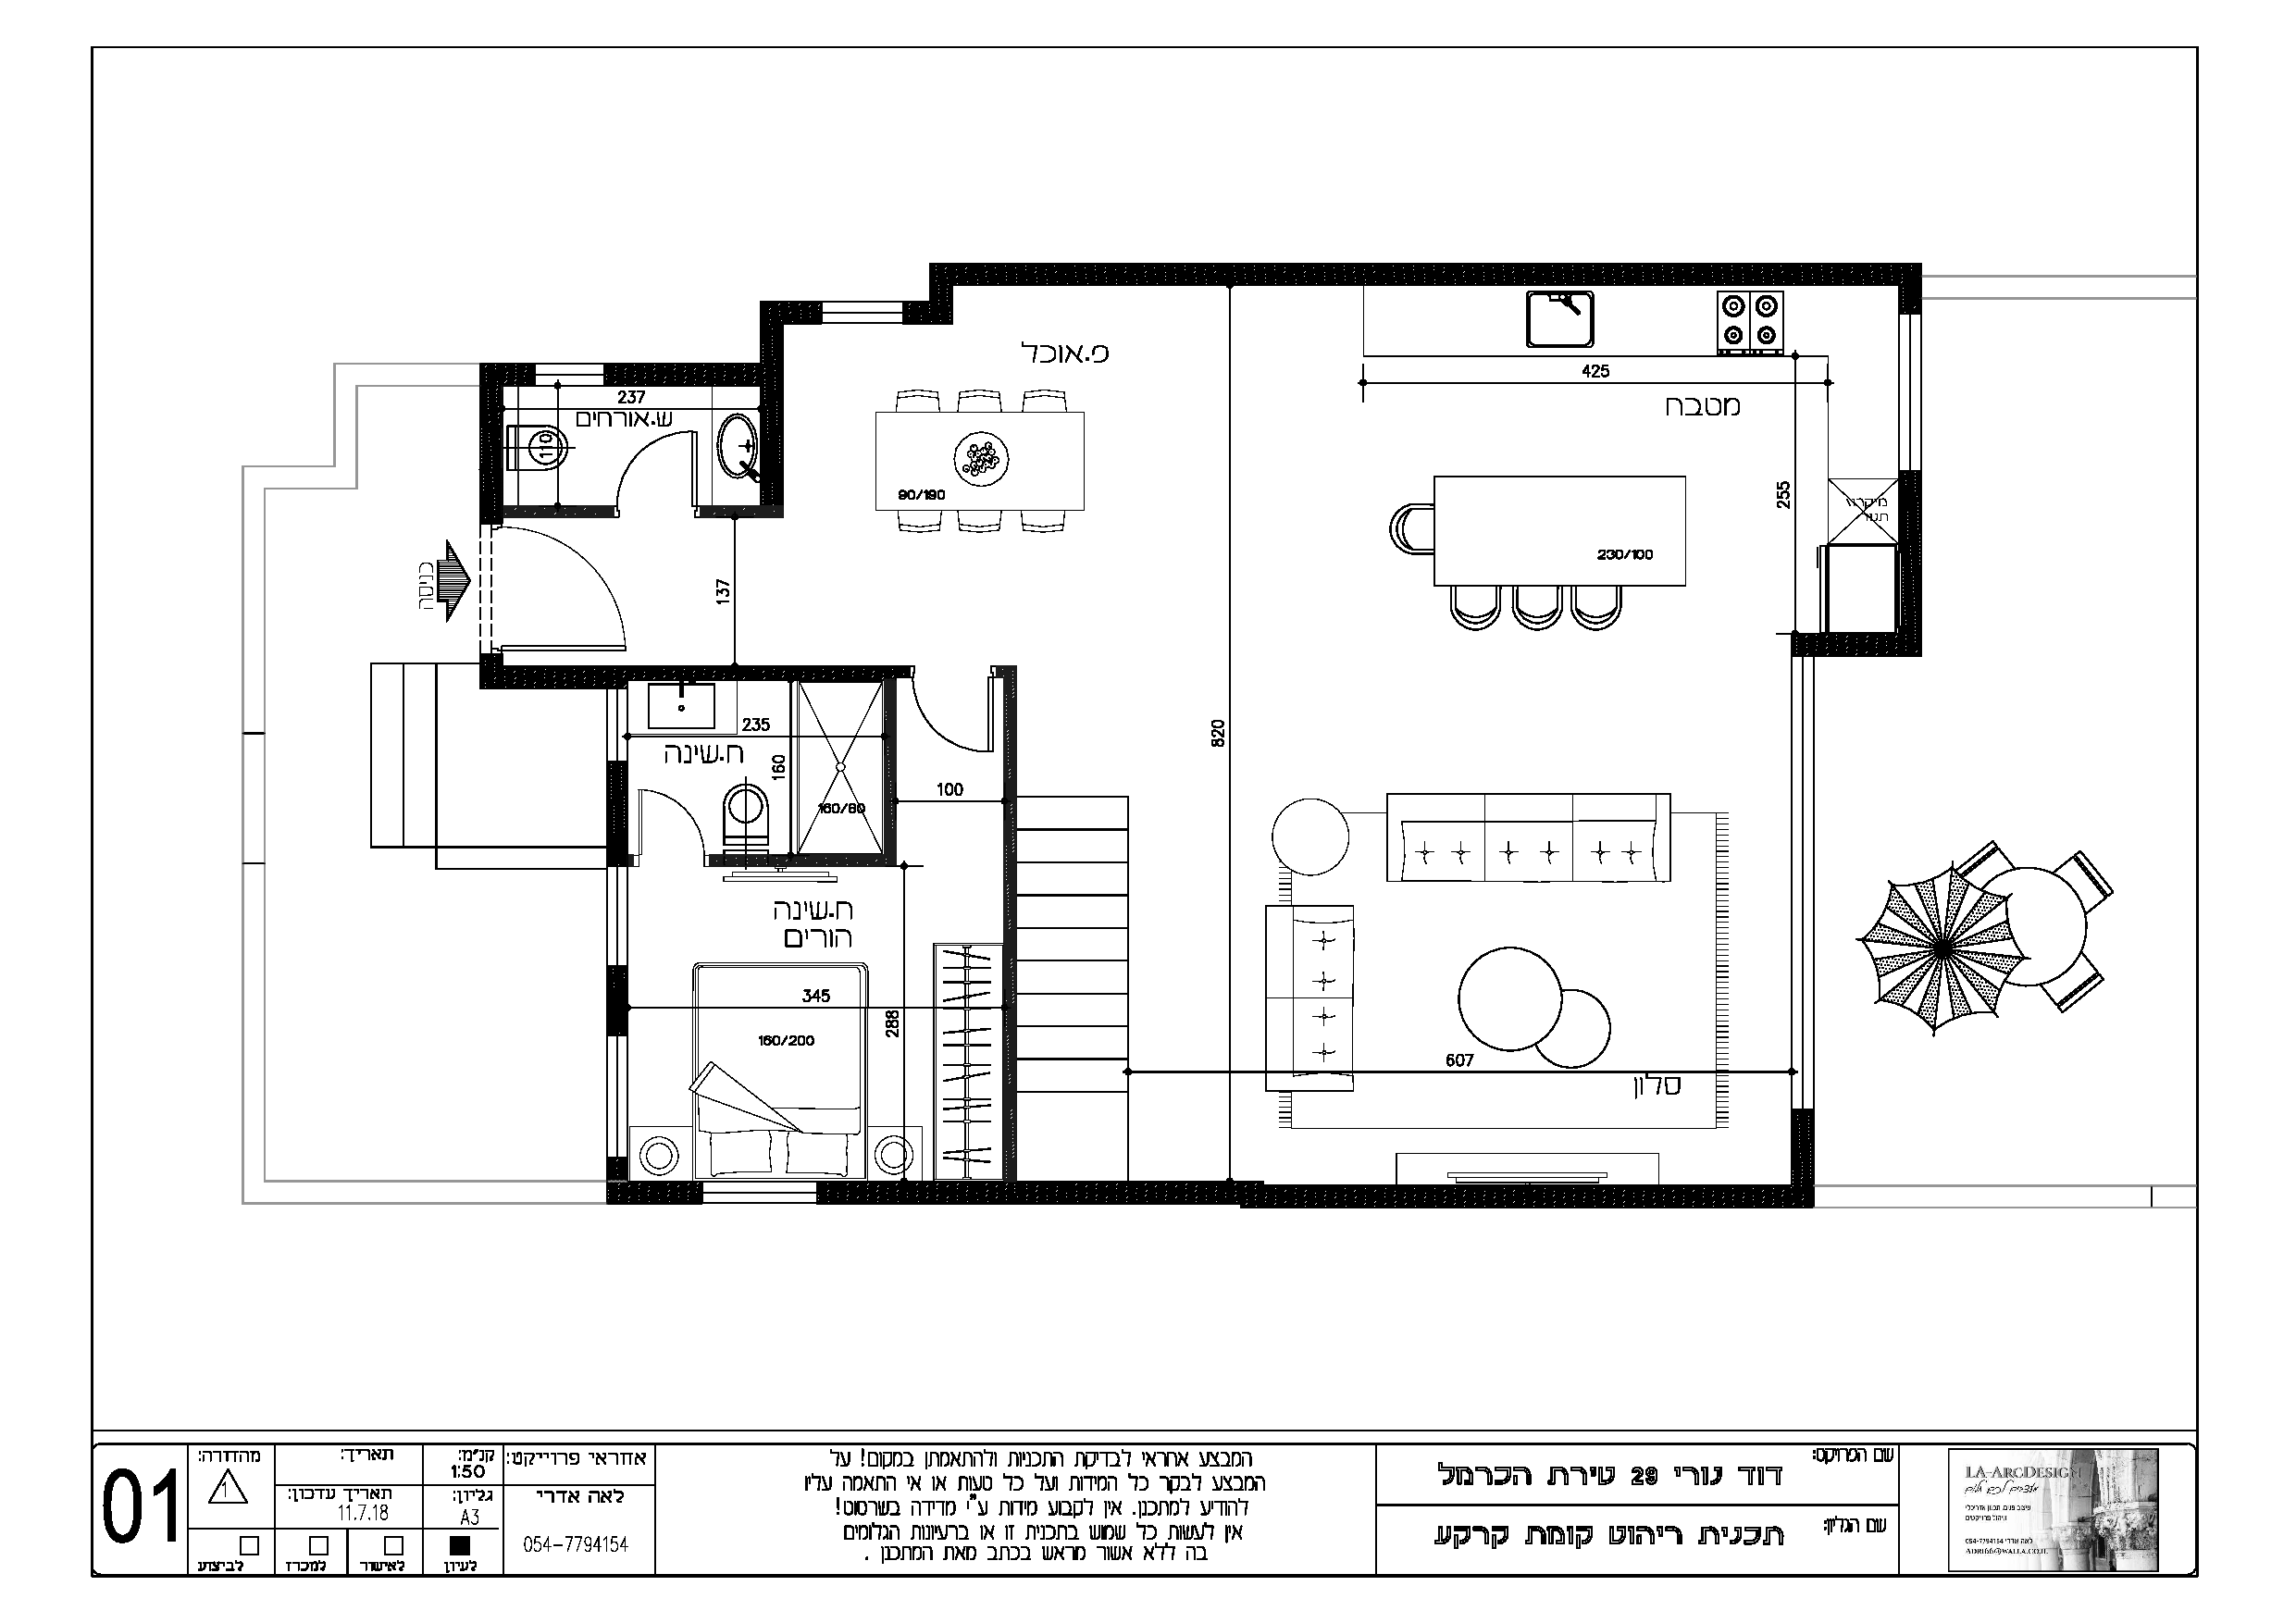room: (1005, 263, 1815, 1210), (606, 852, 1017, 1203), (606, 664, 899, 868), (481, 364, 783, 520)
